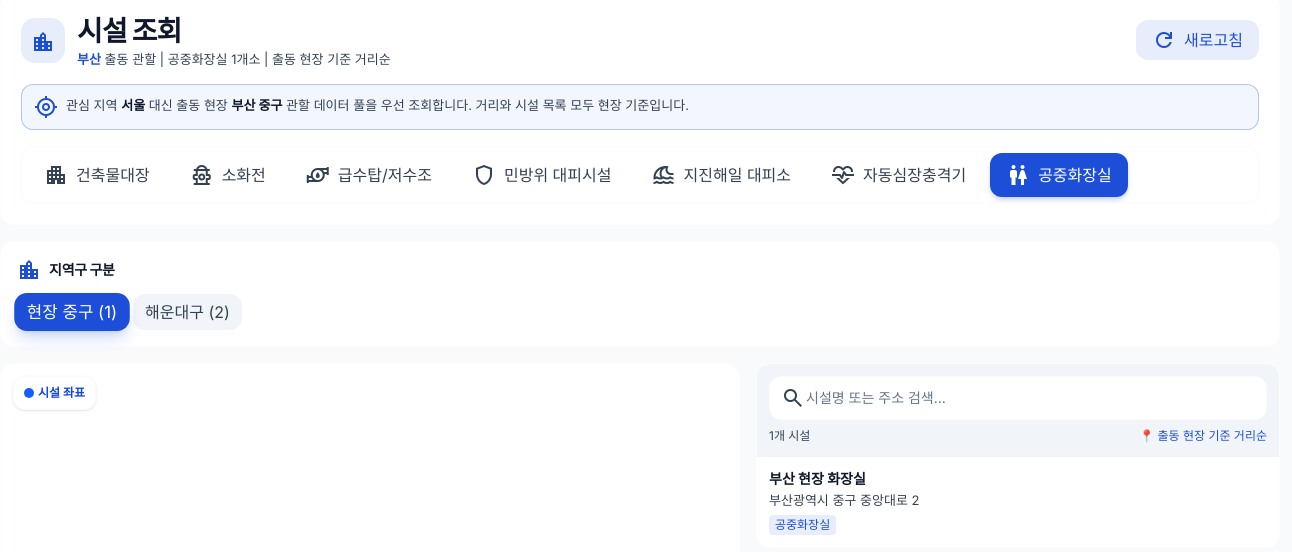
it: FacilitySearchView request ordering › uses the incident district as the default restroom data file
Expected: the text "부산 현장 화장실" is shown, [769,470,866,487]
Click the button "해운대구 (2)" at coordinates (188, 312), box [133,294,242,330]
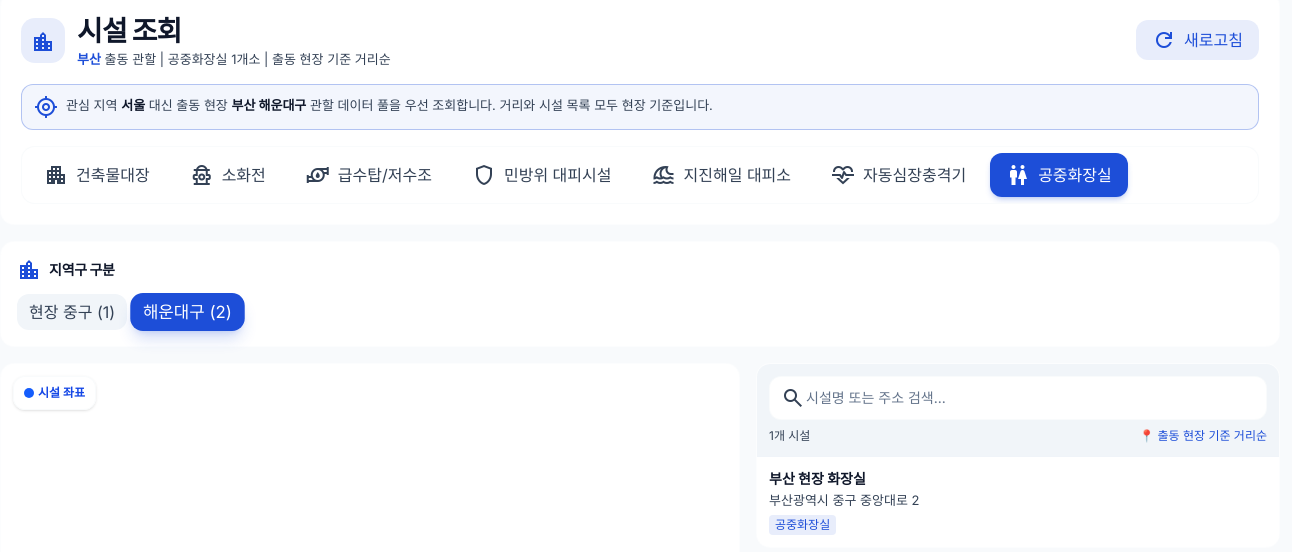
Result: the text "관심 지역" shows "출동 현장 부산 해운대구 관할 데이터 풀" at [66,95,713,115]
